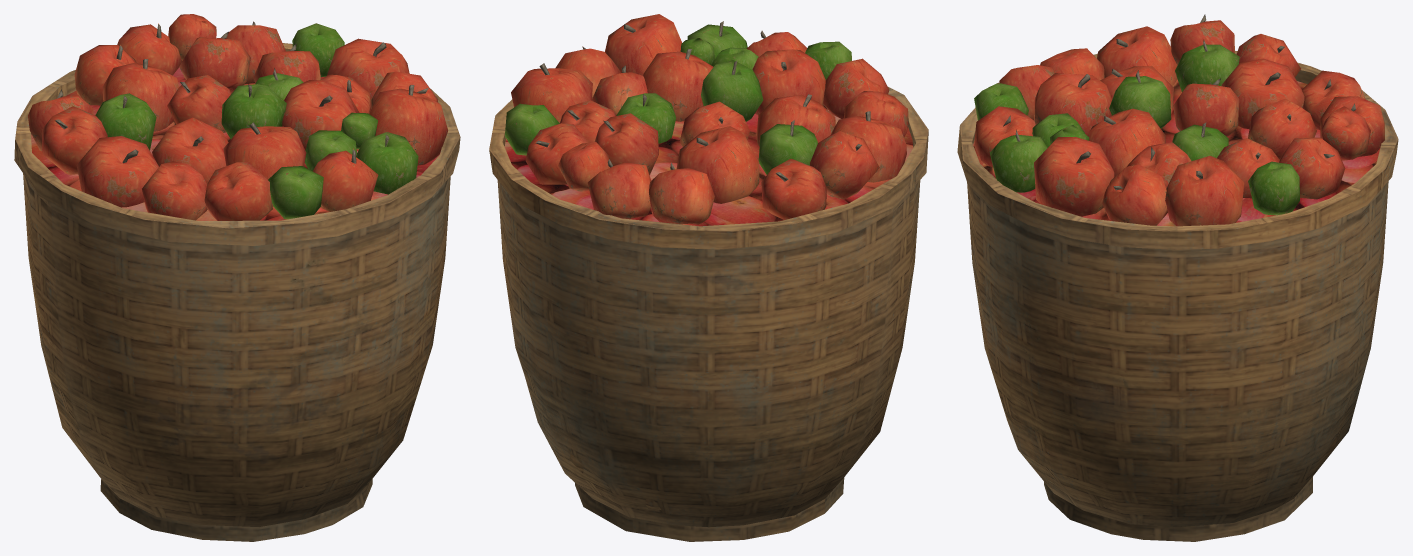
File: SM_basket_apples_01.fbx
3 views of the same model, side by side, from view 1: azimuth 30°, elevation 25°; view 2: azimuth 150°, elevation 25°; view 3: azimuth 270°, elevation 25° (orthographic).
Visible parts, largest first — view 1: SM_basket_apples_01_LOD0; view 2: SM_basket_apples_01_LOD0; view 3: SM_basket_apples_01_LOD0.
Part boxes in pixels (x1,y1,x2,y2): SM_basket_apples_01_LOD0: (14,14,460,541); SM_basket_apples_01_LOD0: (489,14,928,541); SM_basket_apples_01_LOD0: (957,14,1398,541).
Size of the model in its own units: 64.75 by 65.05 by 66.96.
Materials: 3 (3 with a texture image).
